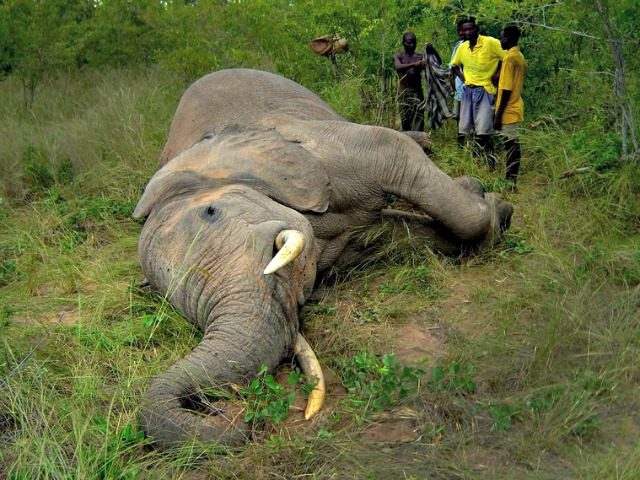elephant: (122, 64, 532, 445)
